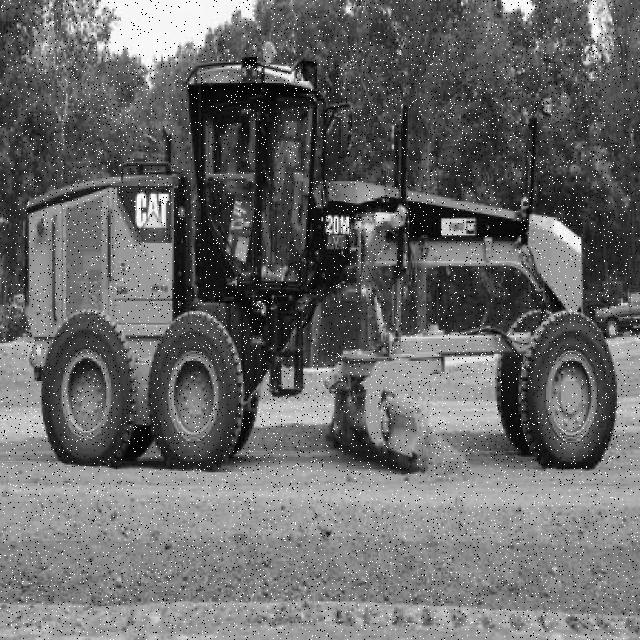Construction Equipment: (24, 41, 618, 475)
